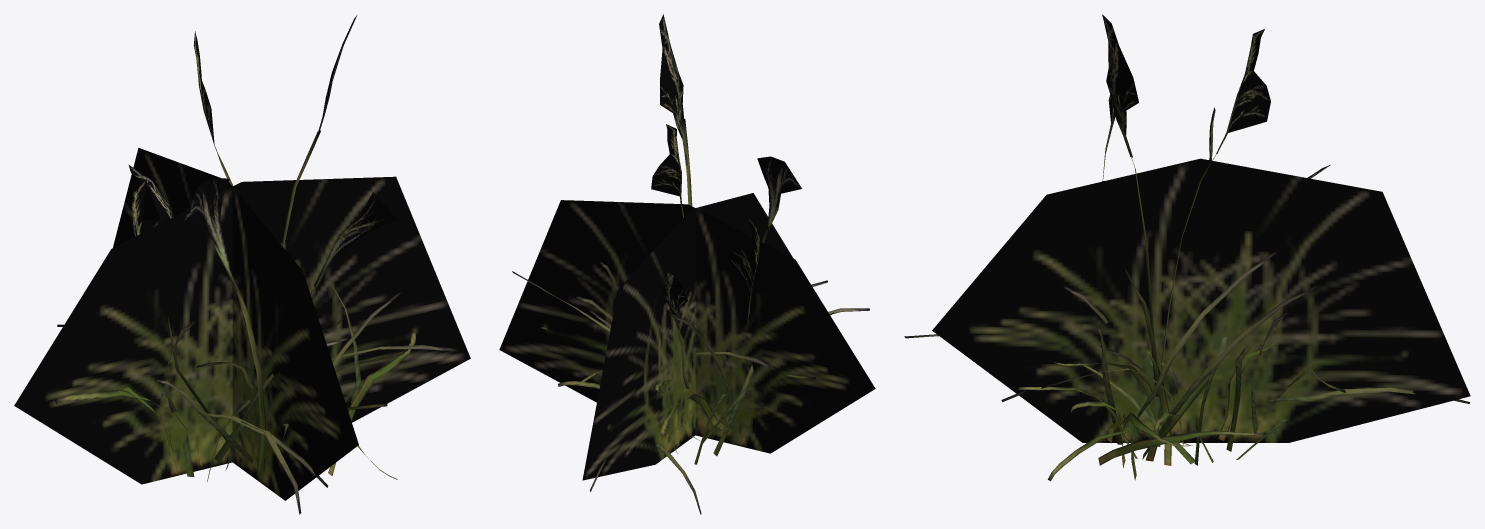
File: grass_tuft_b.glb
The picture shows the model from 3 angles, left to right: view 1: azimuth 30°, elevation 25°; view 2: azimuth 150°, elevation 25°; view 3: azimuth 270°, elevation 25°; orthographic projection. The views are drawn at different scales.
Visible parts, largest first — view 1: grass_tuft_b; view 2: grass_tuft_b; view 3: grass_tuft_b.
Boxes of the visible parts, bbox=[...] form: grass_tuft_b: bbox=[14, 15, 470, 514]; grass_tuft_b: bbox=[499, 14, 875, 514]; grass_tuft_b: bbox=[904, 14, 1470, 481].
Bounding box in the file's own units: 0.2056 × 0.1989 × 0.2161.
Materials: 1 (1 with a texture image).
